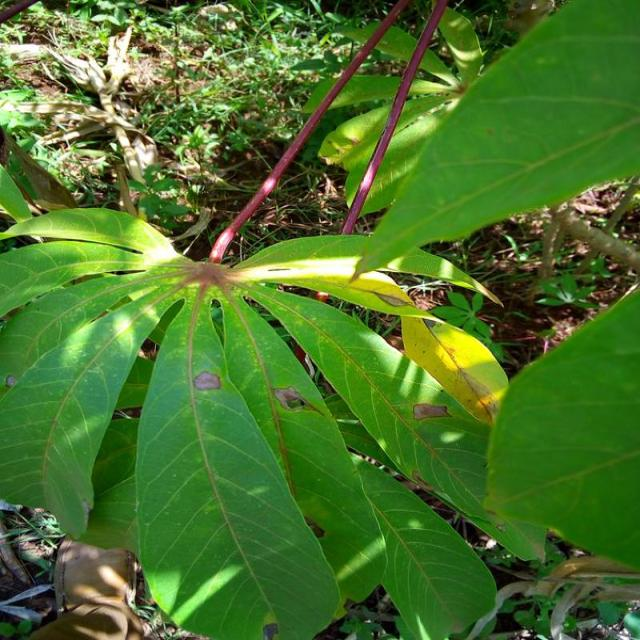cassava leaf: (1, 1, 638, 638), (353, 0, 638, 274), (133, 281, 343, 638), (482, 284, 639, 572)
